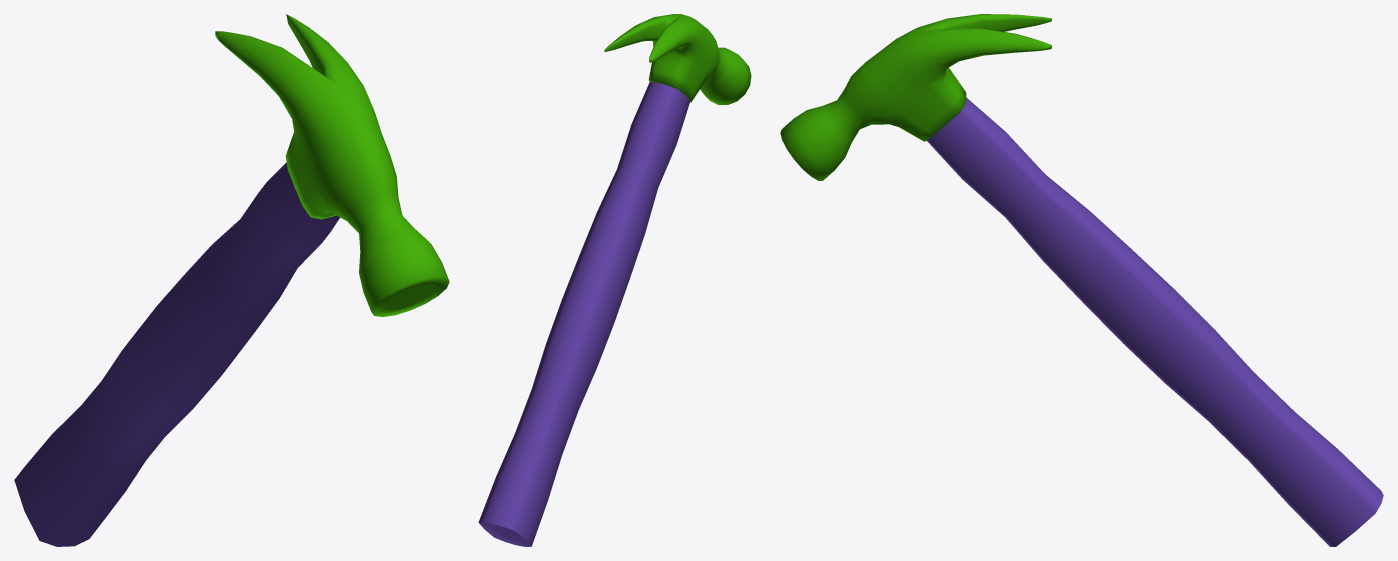
Rendered from hammer.fbx.
3 renders of one model, left to right at view 1: azimuth 30°, elevation 25°; view 2: azimuth 150°, elevation 25°; view 3: azimuth 270°, elevation 25°, orthographic. The views are drawn at different scales.
Parts seen in each view (by area): view 1: polySurface4; view 2: polySurface4; view 3: polySurface4.
Part boxes in pixels (<box>): polySurface4: <box>14,14,449,546</box>; polySurface4: <box>478,14,751,546</box>; polySurface4: <box>780,14,1383,546</box>.
Bounding box in the file's own units: 4.79 × 41.5 × 39.5.
